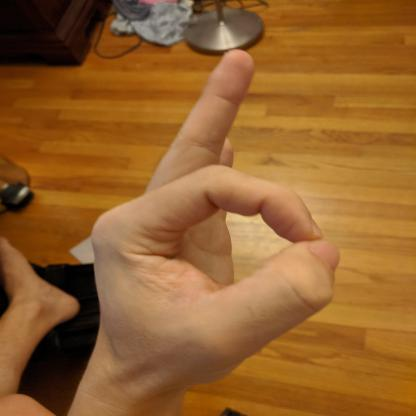F: (83, 46, 348, 396)
